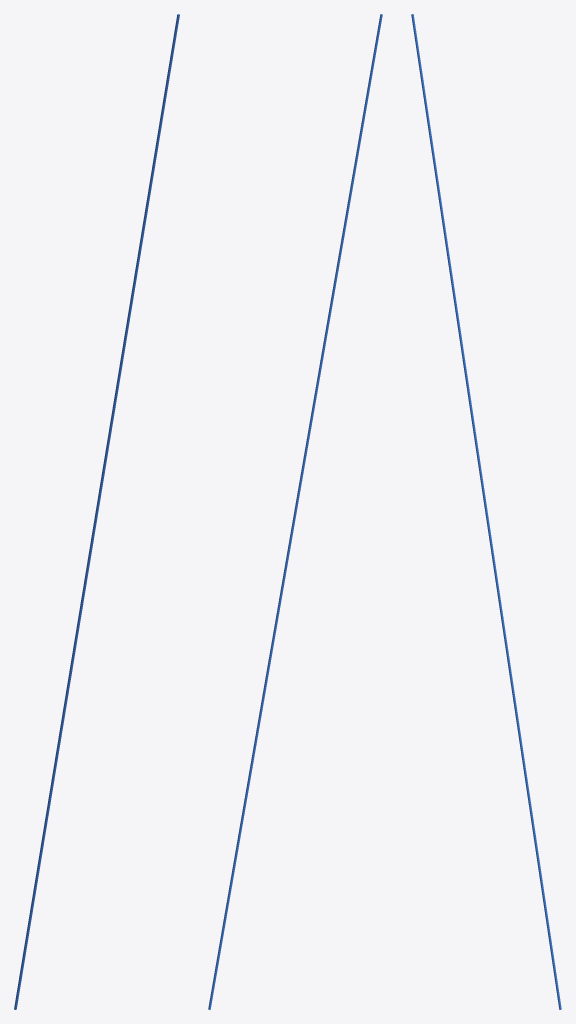
The model's file is tile_510.glb.
The picture shows the model from 3 angles, left to right: view 1: azimuth 90°, elevation 25°; view 2: azimuth 150°, elevation 25°; view 3: azimuth 270°, elevation 25°; orthographic projection. The views are drawn at different scales.
Bounding box in the file's own units: 5.82 × 54.07 × 7.77.
